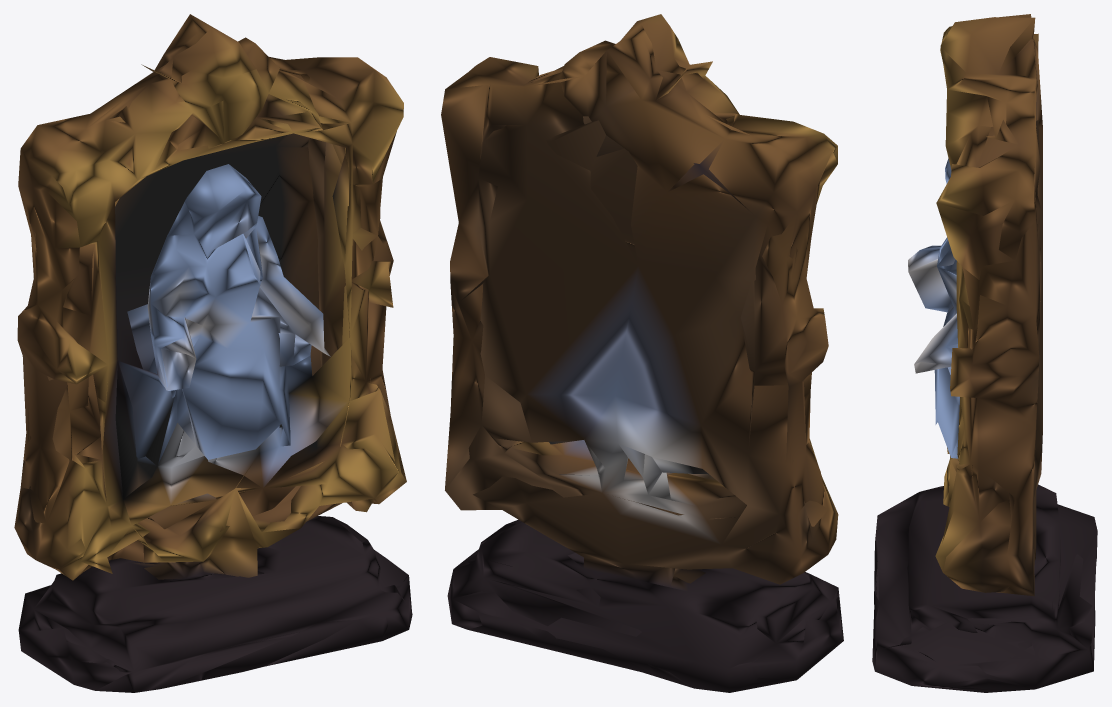
The model's file is gen3d-haunted-portrait-lod0.glb.
3 views of the same model, side by side, from view 1: azimuth 30°, elevation 25°; view 2: azimuth 150°, elevation 25°; view 3: azimuth 270°, elevation 25° (orthographic).
Parts seen in each view (by area): view 1: part_0; view 2: part_0; view 3: part_0.
Boxes of the visible parts, bbox=[...] form: part_0: bbox=[14, 14, 412, 692]; part_0: bbox=[441, 14, 843, 692]; part_0: bbox=[872, 14, 1097, 692].
Bounding box in the file's own units: 0.6326 × 1 × 0.3448.
